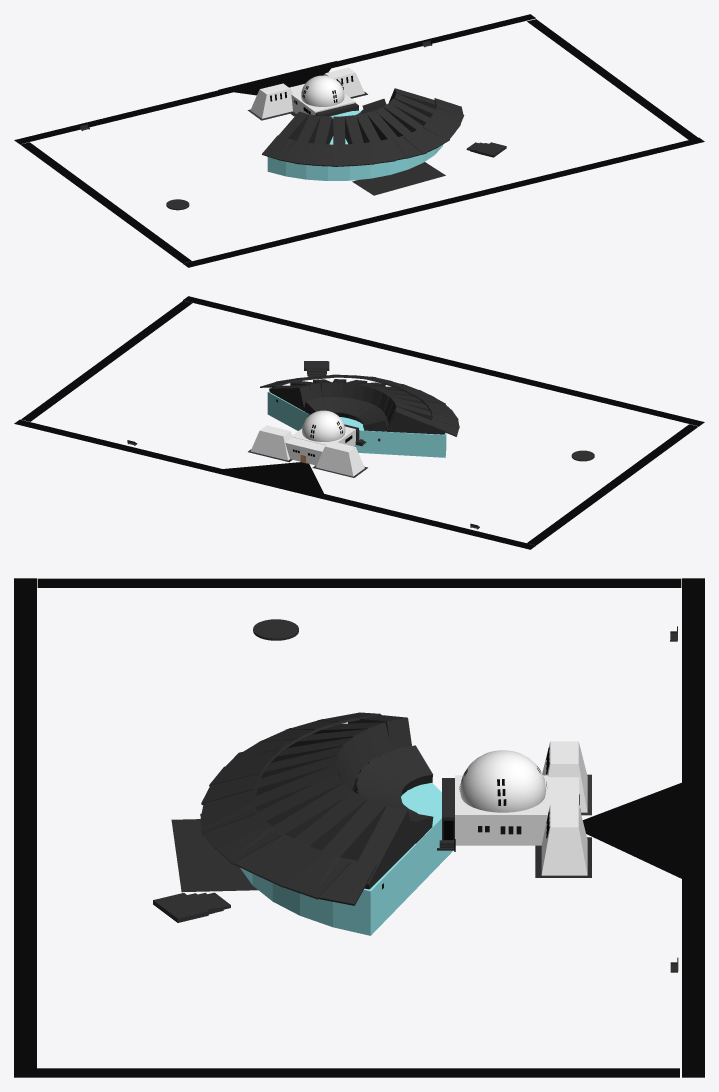
File: asmundarsafn_cpy_to_test_8.obj
The picture shows the model from 3 angles, top to bottom: view 1: azimuth 30°, elevation 25°; view 2: azimuth 150°, elevation 25°; view 3: azimuth 270°, elevation 25°; orthographic projection. The views are drawn at different scales.
Parts seen in each view (by area): view 1: Plane.028, Plane.027, syningarsalur, Plane.030, Plane.029, Plane.035, pavement, Sphere, h_hlid, v_hlid, innanhus, Cube.049 (+17 smaller); view 2: Plane.028, syningarsalur, Plane.027, pavement, Plane.030, Plane.029, Cube.033, h_hlid, Sphere, v_hlid, Cube.031, adaldyr (+5 smaller); view 3: Plane.028, Plane.027, pavement, syningarsalur, Plane.030, Plane.029, Sphere, innanhus, Plane.035, v_hlid, Cube.031, Cube.036 (+23 smaller).
Part boxes in pixels (<box>): Plane.028: <box>183,137,704,267</box>; Plane.027: <box>14,14,535,144</box>; syningarsalur: <box>267,110,443,180</box>; Plane.030: <box>20,142,191,263</box>; Plane.029: <box>527,19,697,139</box>; Plane.035: <box>352,162,445,195</box>; pavement: <box>218,61,336,95</box>; Sphere: <box>301,75,344,106</box>; h_hlid: <box>250,83,292,118</box>; v_hlid: <box>324,67,364,97</box>; innanhus: <box>291,92,355,115</box>; Cube.049: <box>347,142,374,166</box>; Plane.028: <box>183,296,704,426</box>; syningarsalur: <box>267,391,446,457</box>; Plane.027: <box>14,419,535,549</box>; pavement: <box>207,462,326,499</box>; Plane.030: <box>527,424,698,545</box>; Plane.029: <box>21,300,192,421</box>; Cube.033: <box>363,406,445,434</box>; h_hlid: <box>316,441,364,476</box>; Sphere: <box>302,410,345,441</box>; v_hlid: <box>250,425,292,460</box>; Cube.031: <box>269,385,322,414</box>; adaldyr: <box>285,437,325,465</box>; Plane.028: <box>14,578,36,1077</box>; Plane.027: <box>682,578,704,1077</box>; pavement: <box>583,774,704,889</box>; syningarsalur: <box>240,783,452,935</box>; Plane.030: <box>37,578,681,587</box>; Plane.029: <box>37,1068,679,1077</box>; Sphere: <box>460,750,545,812</box>; innanhus: <box>455,775,549,845</box>; Plane.035: <box>171,819,257,892</box>; v_hlid: <box>541,804,587,875</box>; Cube.031: <box>358,806,433,889</box>; Cube.036: <box>322,800,418,860</box>.
Bounding box in the file's own units: 103 × 9.3 × 60.12.
